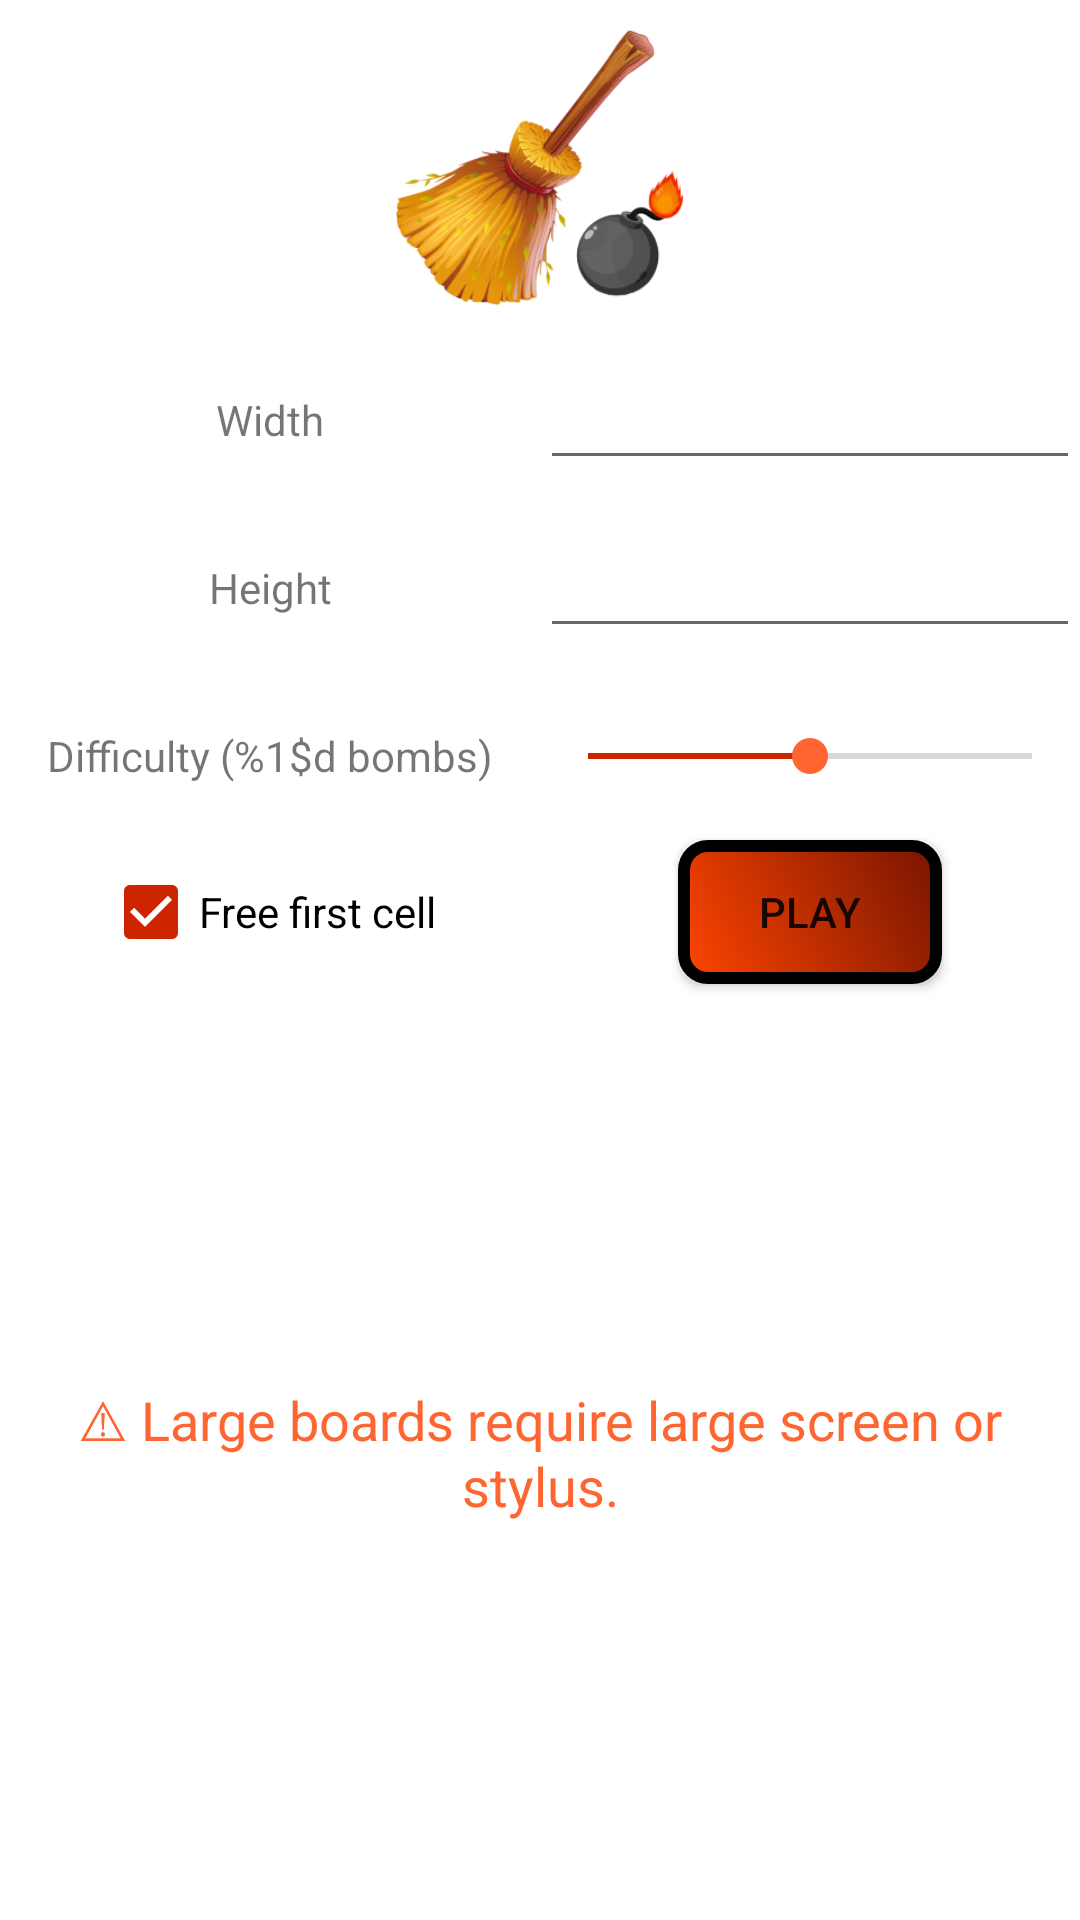

Named icons in this screenshot (1080x1920) and their bounding boxes, (x1, y1, x2, y2):
Welcome to Minesweeper!: (396, 30, 683, 306)
